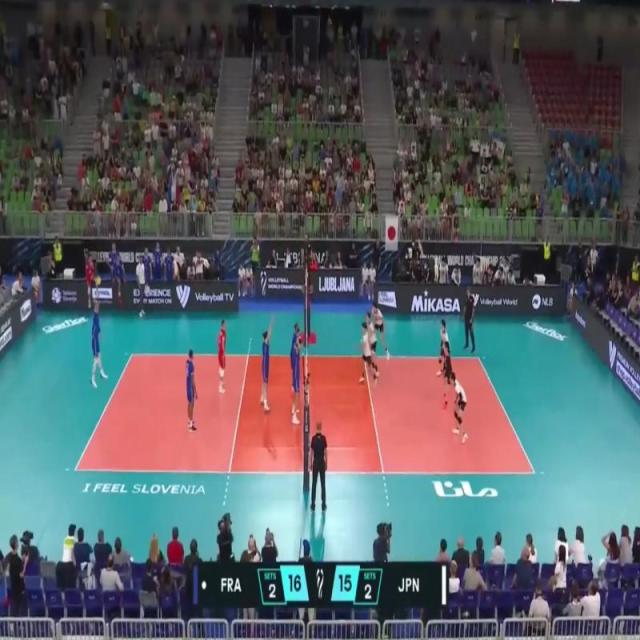volleyball: (95, 274, 102, 287)
